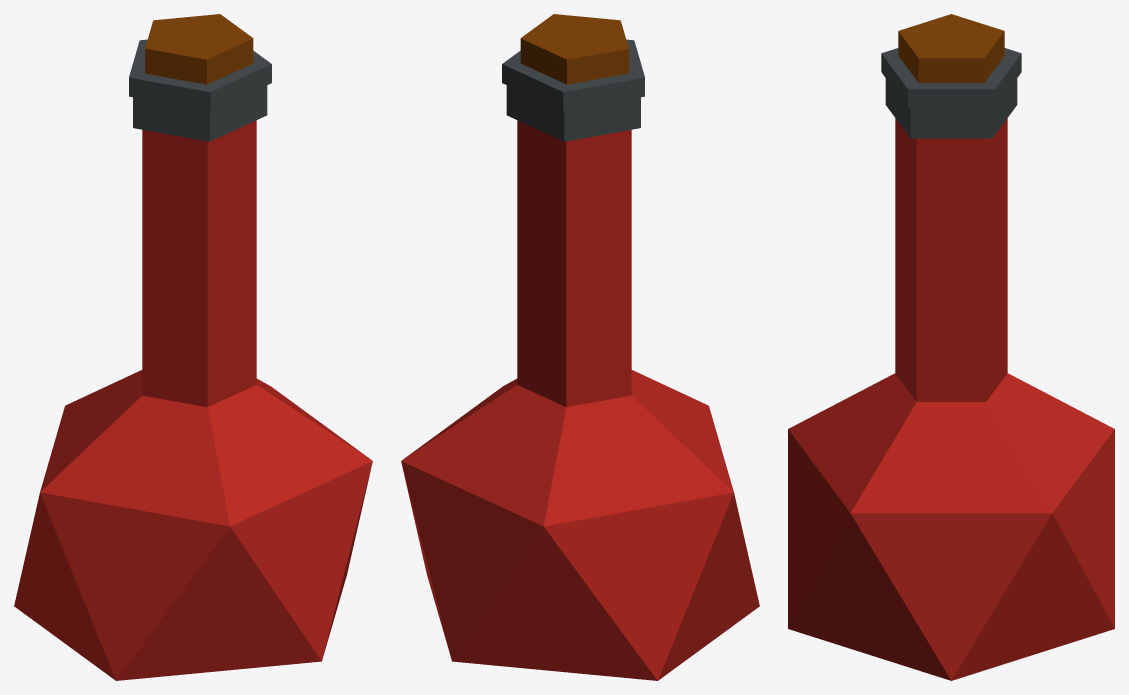
Rendered from Potion1.fbx.
3 renders of one model, left to right at view 1: azimuth 30°, elevation 25°; view 2: azimuth 150°, elevation 25°; view 3: azimuth 270°, elevation 25°, orthographic.
Visible parts, largest first — view 1: Icosphere.001; view 2: Icosphere.001; view 3: Icosphere.001.
Part boxes in pixels (x1=…): Icosphere.001: x1=14, y1=14, x2=372, y2=680; Icosphere.001: x1=401, y1=14, x2=759, y2=680; Icosphere.001: x1=788, y1=14, x2=1114, y2=680.
Size of the model in its own units: 0.1753 by 0.1633 by 0.3449.
